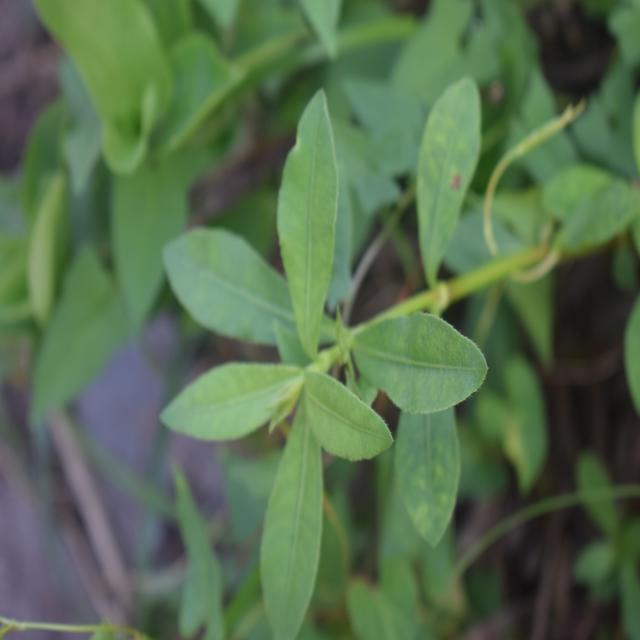Alligatorweed: (141, 121, 495, 585)
